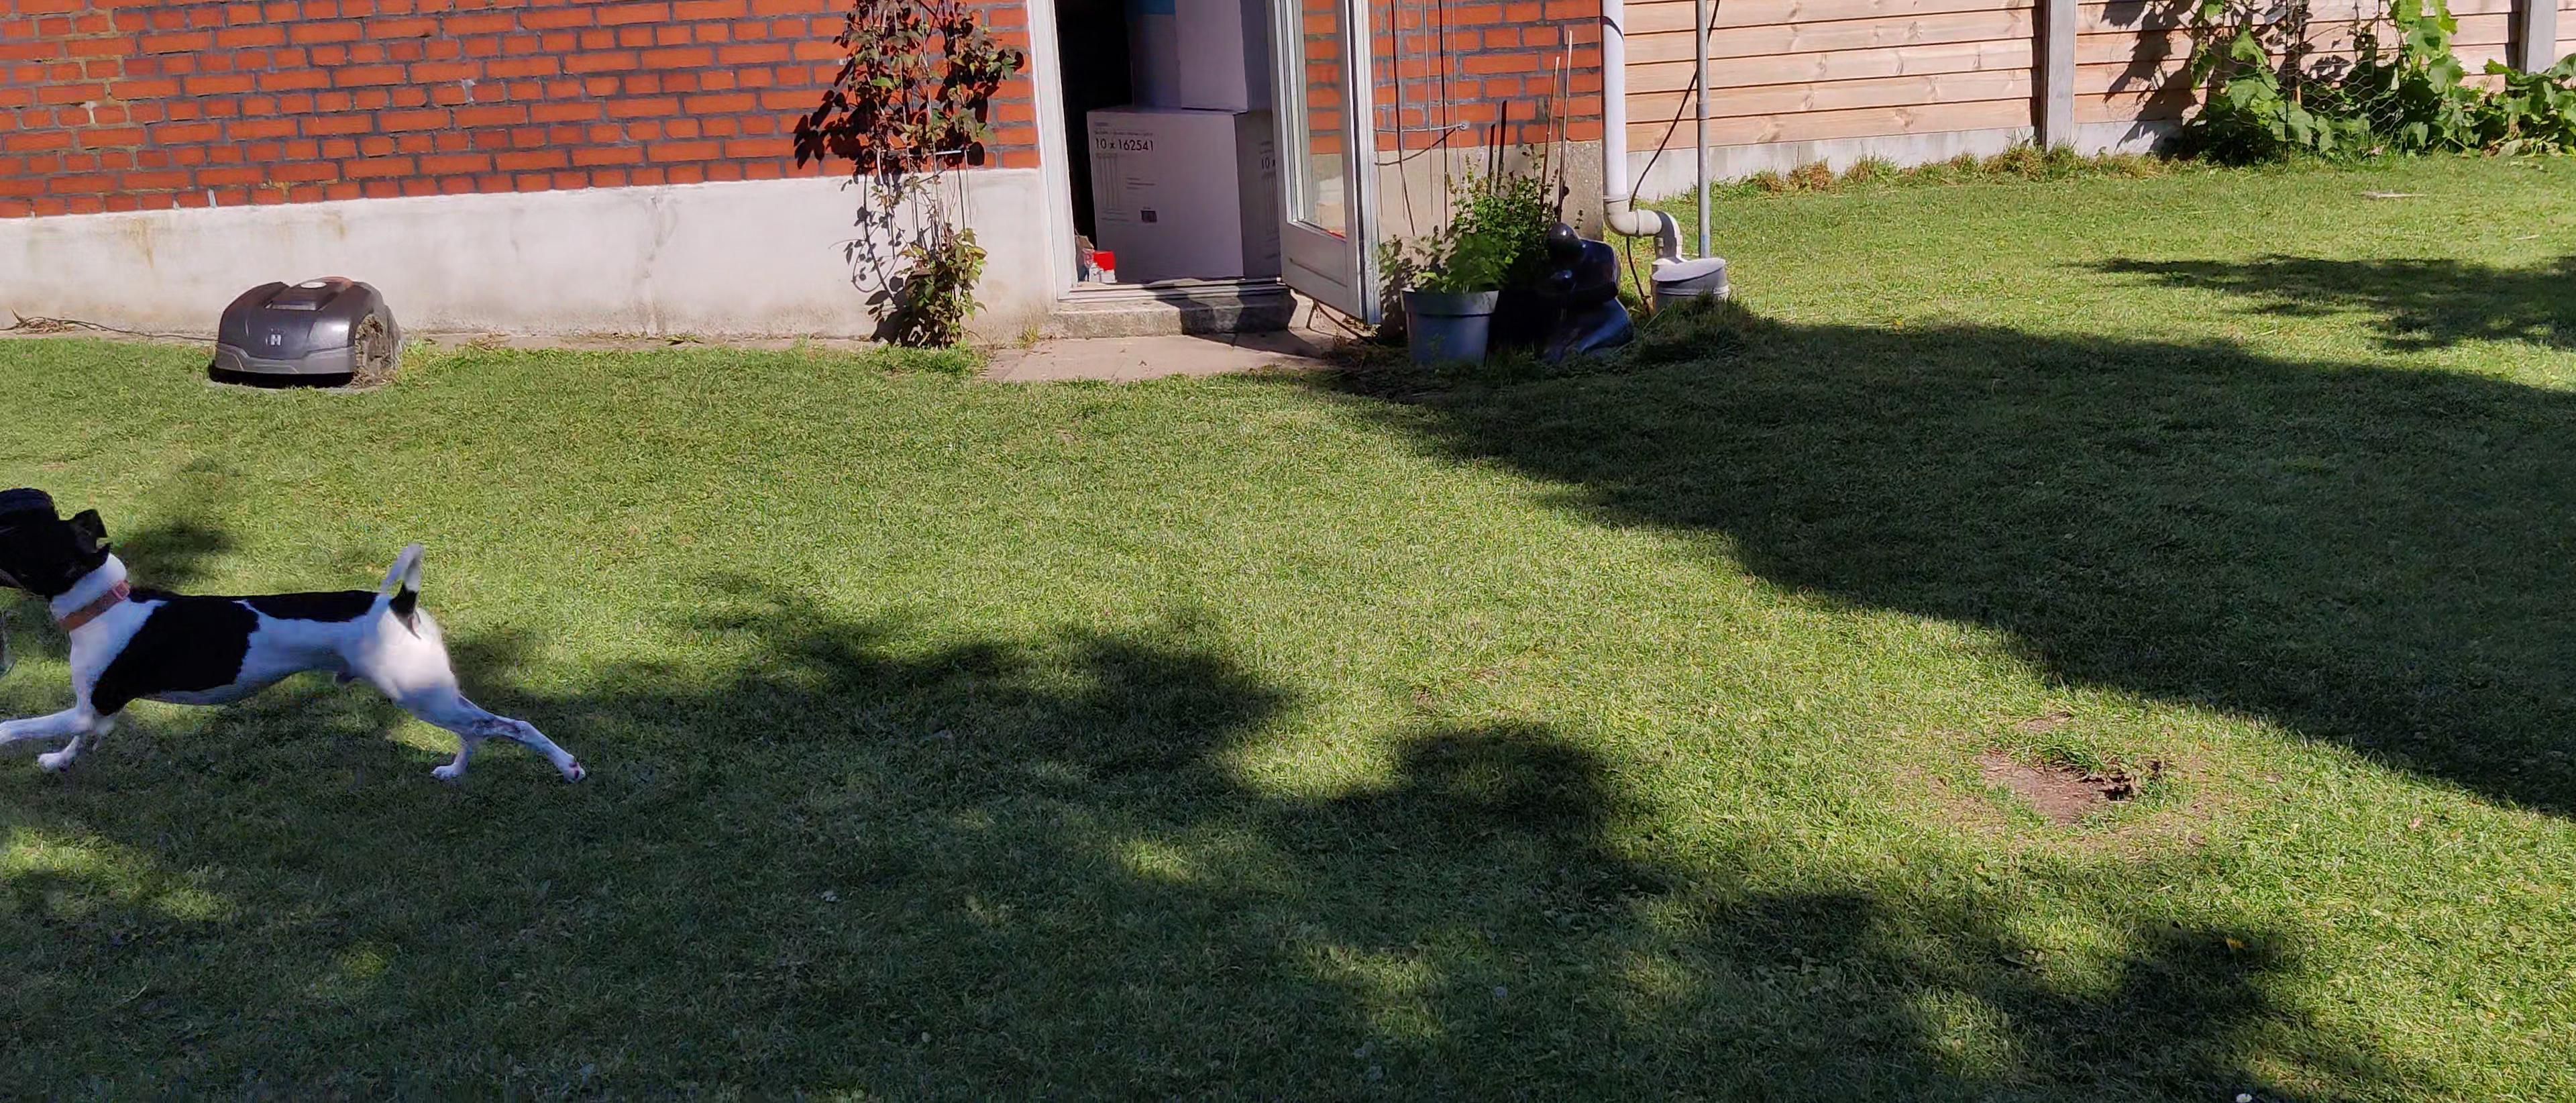Dog: (0, 503, 598, 799)
